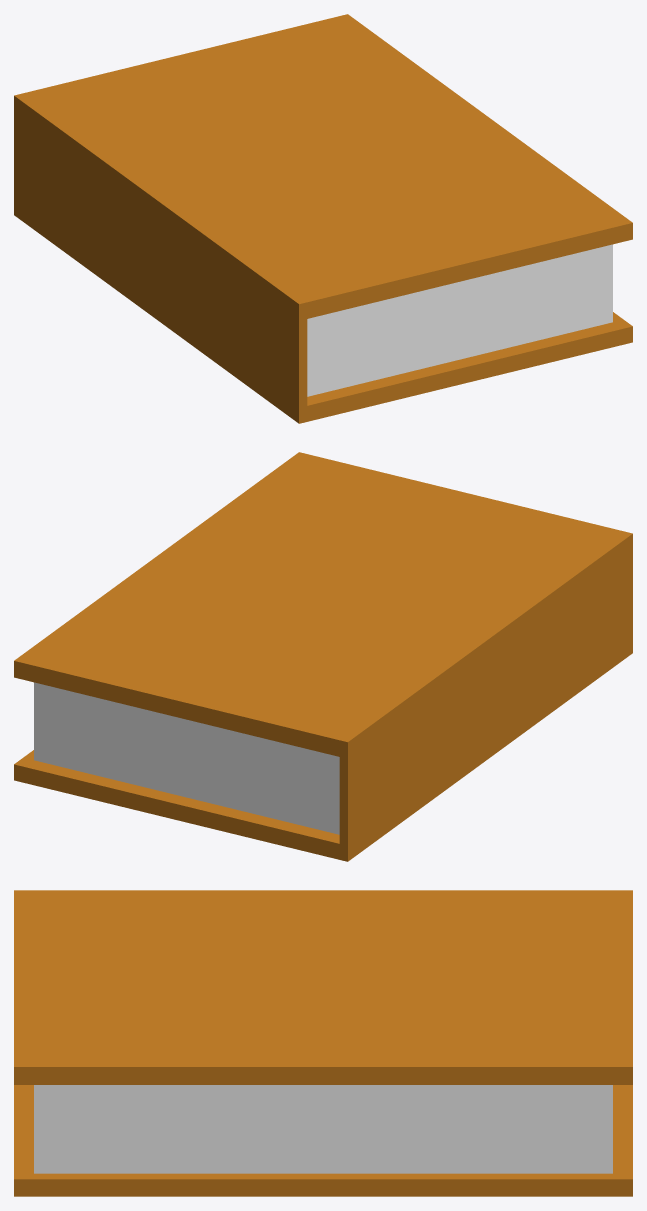
File: book.obj
3 views of the same model, one above another, from view 1: azimuth 30°, elevation 25°; view 2: azimuth 150°, elevation 25°; view 3: azimuth 270°, elevation 25° (orthographic). The views are drawn at different scales.
Parts seen in each view (by area): view 1: Cube_Cube.001; view 2: Cube_Cube.001; view 3: Cube_Cube.001.
Part boxes in pixels (x1,y1,x2,y2): Cube_Cube.001: (14,14,632,423); Cube_Cube.001: (14,452,632,861); Cube_Cube.001: (14,890,632,1196).
Bounding box in the file's own units: 0.5674 × 0.1943 × 0.8395.
Materials: 1 (1 with a texture image).
